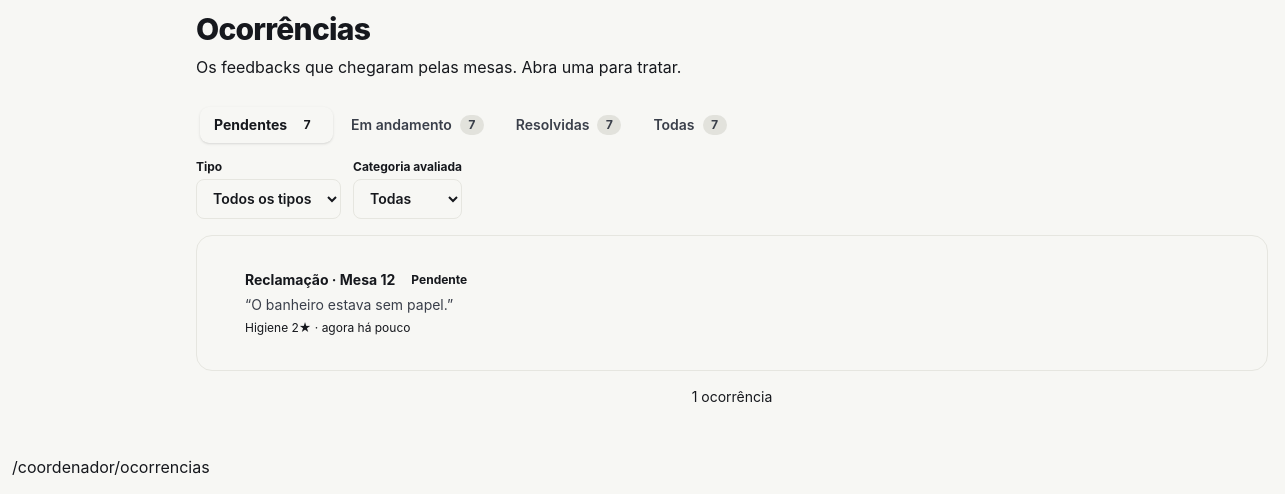
Test: fila de ocorrências: filtros no endereço › escolher um tipo vai para o endereço e para a API
Check: the text "“O banheiro estava sem papel.”" is shown, box [245,296,453,312]
Step 1. Select "Sugestão" in the dropdown labelled "Tipo" → (268, 198), box [196,178,341,218]
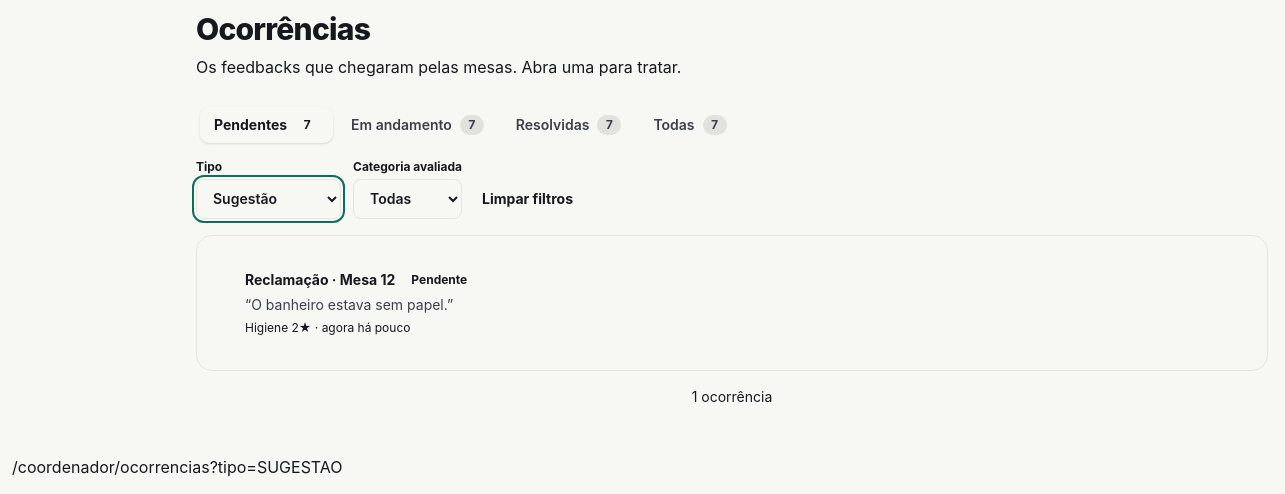
Check: the text with test id "endereco" reads "/coordenador/ocorrencias?tipo=SUGESTAO", box [12,457,342,477]
